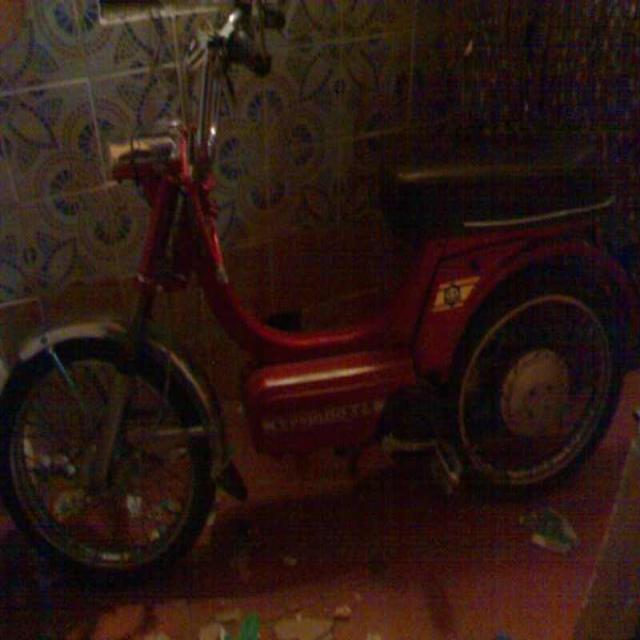Motorbike: (41, 67, 633, 622)
